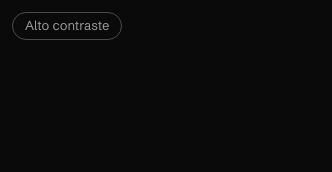
it: ContrastToggle › alterna o atributo no <html> e persiste a escolha
Later steps or results of the test are not shown.
Click the button "Alto contraste" at (67, 26), box [12,12,122,40]
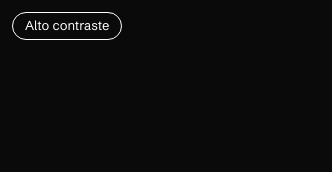
Expected: the button "Alto contraste" is pressed, [12,12,122,40]
